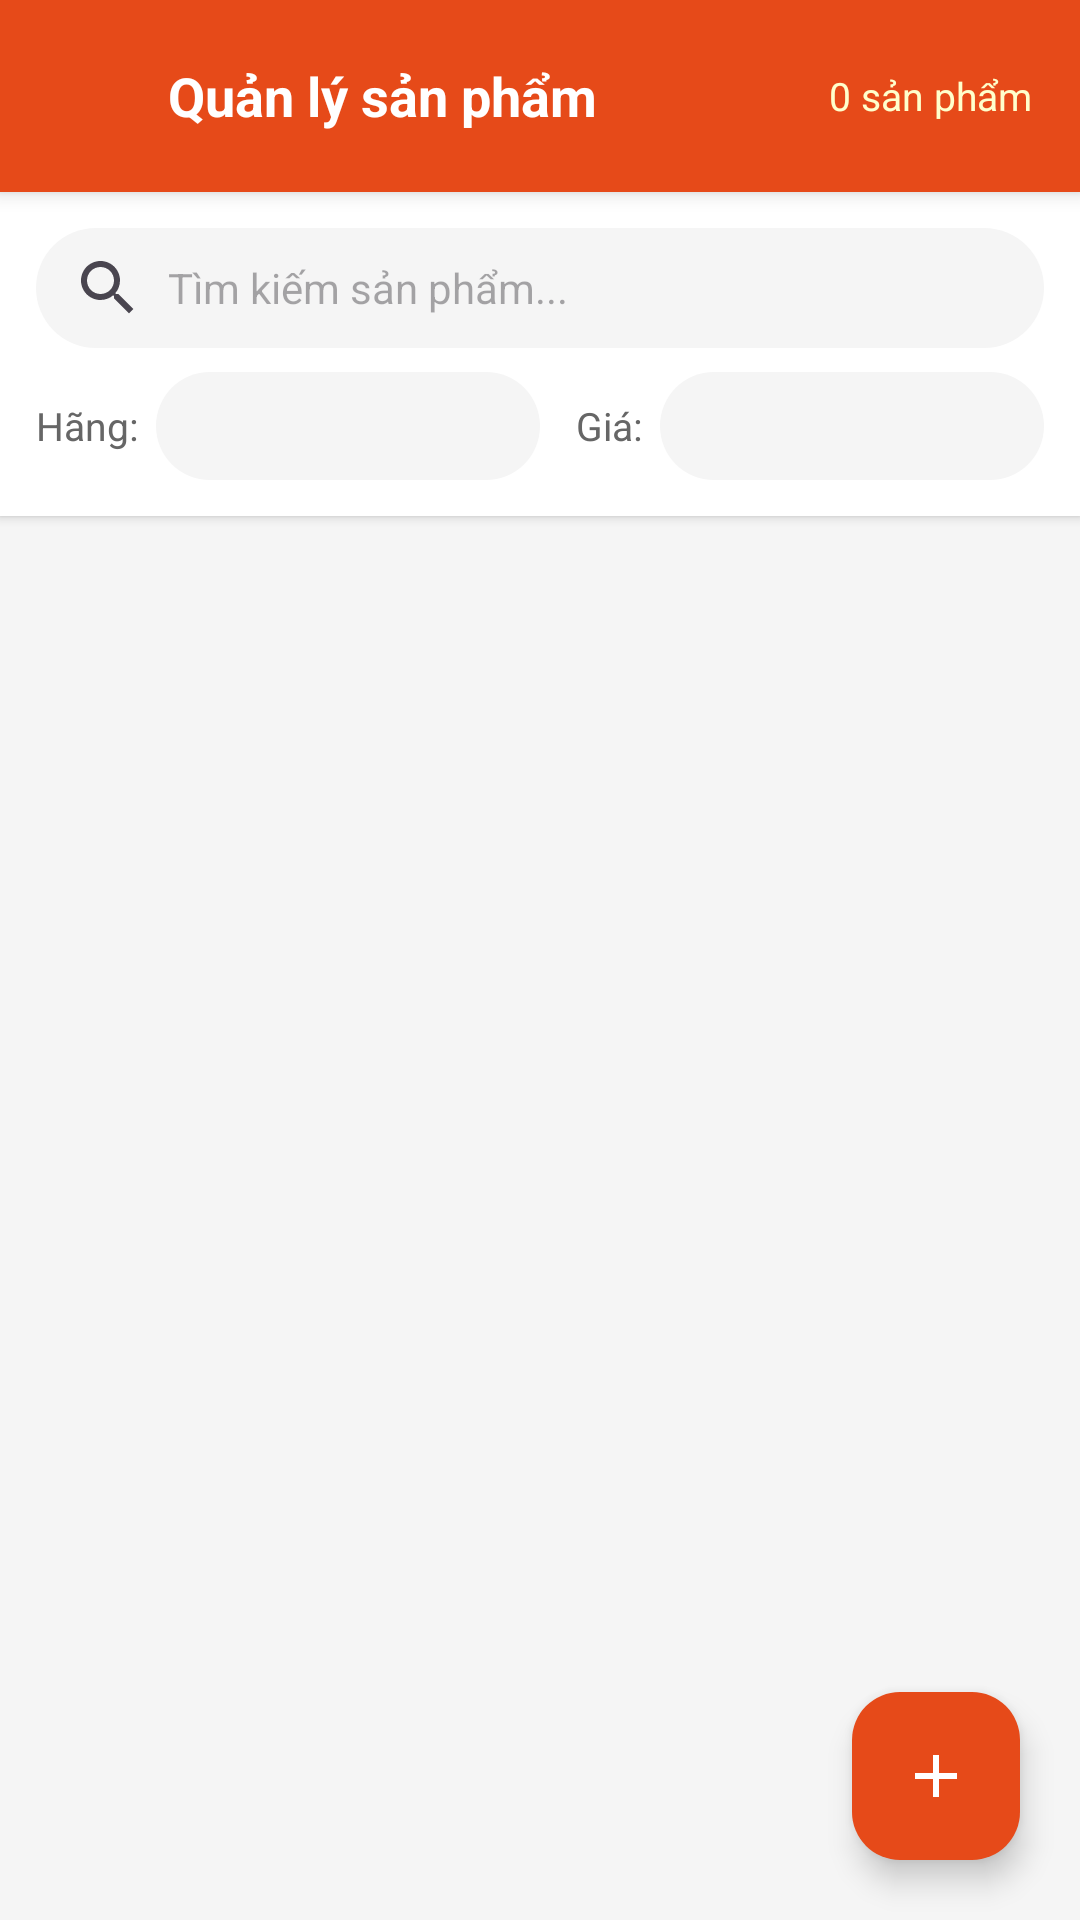

Named icons in this screenshot (1080 × 1920) and their bounding boxes, (x1, y1, x2, y2):
Thêm sản phẩm: (852, 1692, 1020, 1860)
